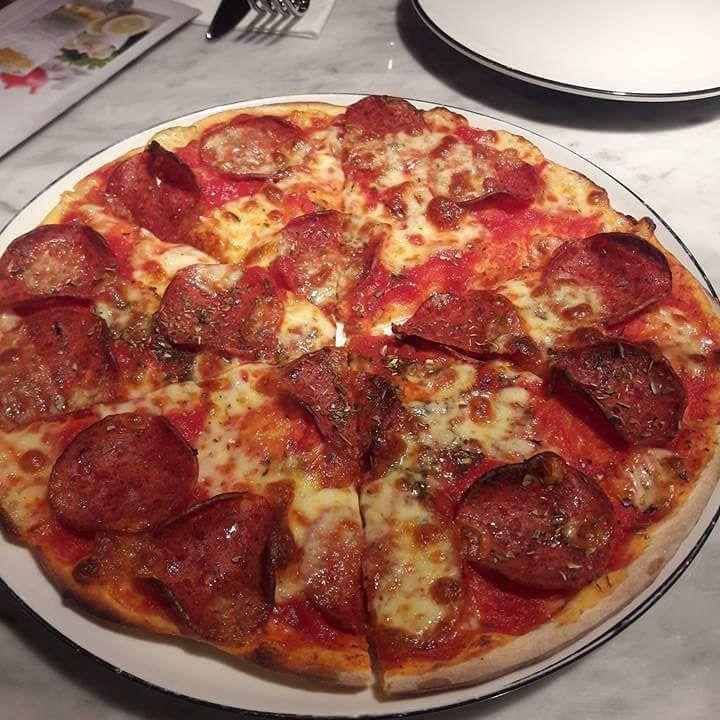Cheese: (0, 102, 720, 694)
Mushroom: (242, 205, 384, 299)
Pepperoni: (455, 455, 614, 596), (133, 494, 275, 642), (48, 414, 200, 532), (552, 340, 690, 455), (0, 308, 128, 426), (271, 358, 402, 462), (151, 264, 289, 355), (541, 233, 675, 325), (394, 287, 531, 366), (0, 224, 122, 309), (105, 144, 206, 245), (300, 502, 373, 636), (424, 136, 539, 209), (342, 92, 423, 174), (207, 112, 306, 178)
